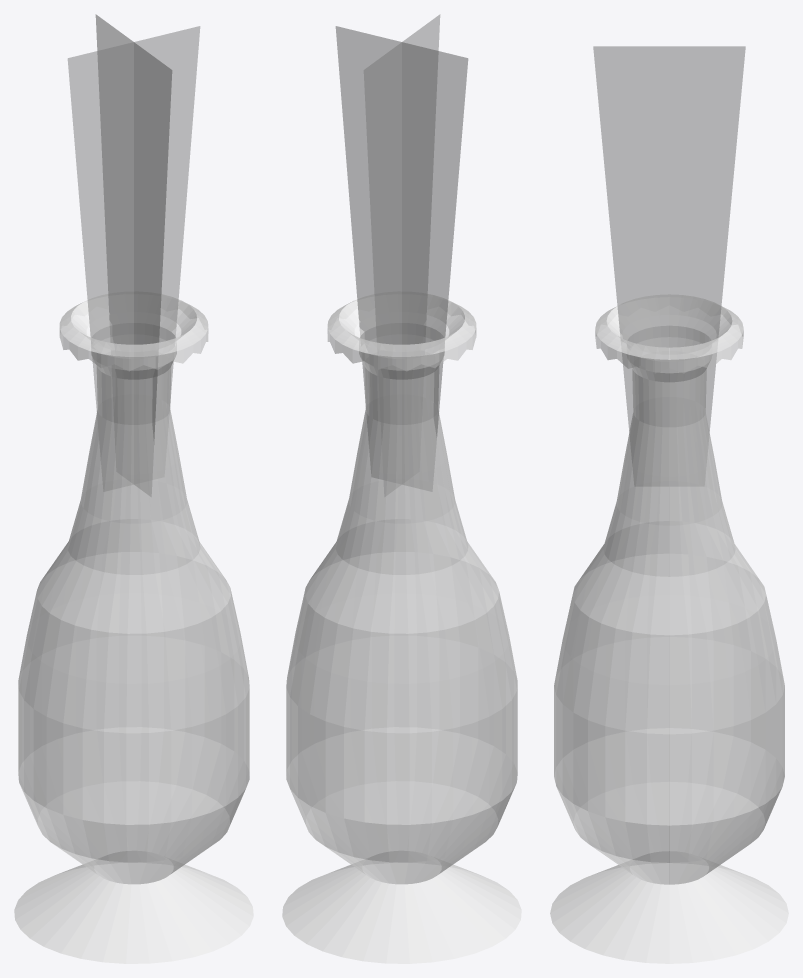
File: glass_vase.obj
The picture shows the model from 3 angles, left to right: view 1: azimuth 30°, elevation 25°; view 2: azimuth 150°, elevation 25°; view 3: azimuth 270°, elevation 25°; orthographic projection.
Visible parts, largest first — view 1: Cylinder; view 2: Cylinder; view 3: Cylinder.
Part boxes in pixels (x1,y1,x2,y2): Cylinder: (14,14,253,963); Cylinder: (282,14,521,963); Cylinder: (550,46,788,963).
Size of the model in its own units: 0.7032 by 2.82 by 0.7032.
2 materials, 1 textured.
